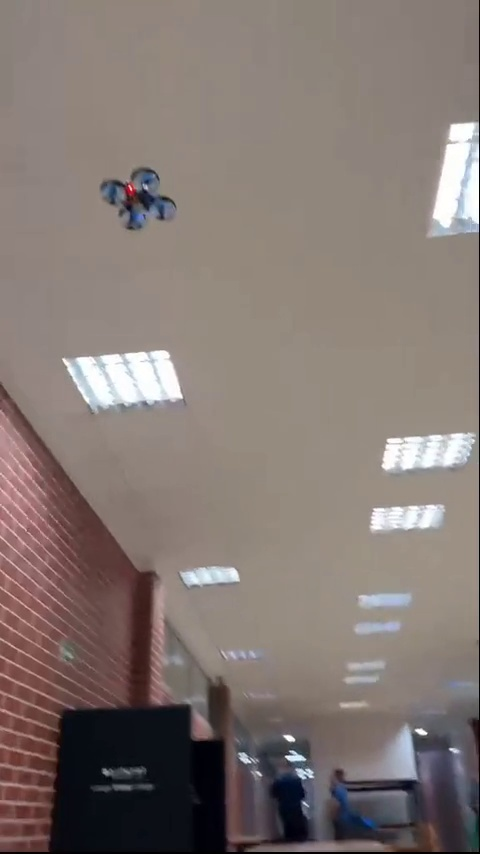drone: (99, 168, 176, 228)
no vest: (325, 761, 355, 811)
